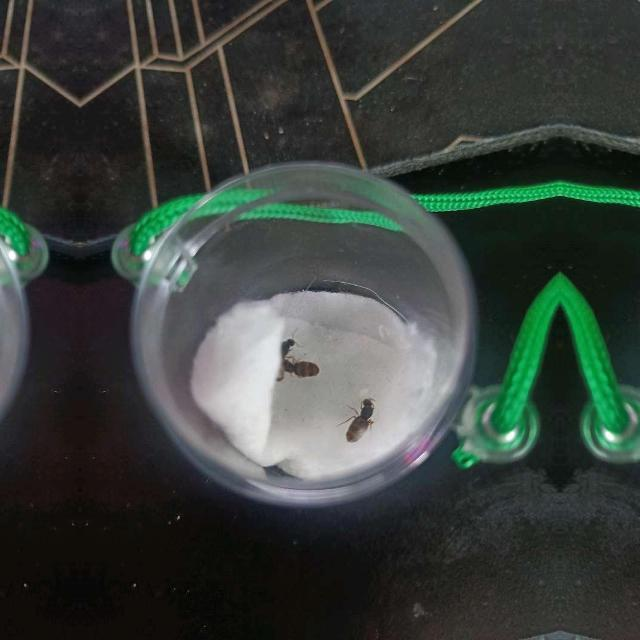Lasius: (342, 392, 388, 448), (279, 348, 325, 380), (276, 332, 298, 380)
